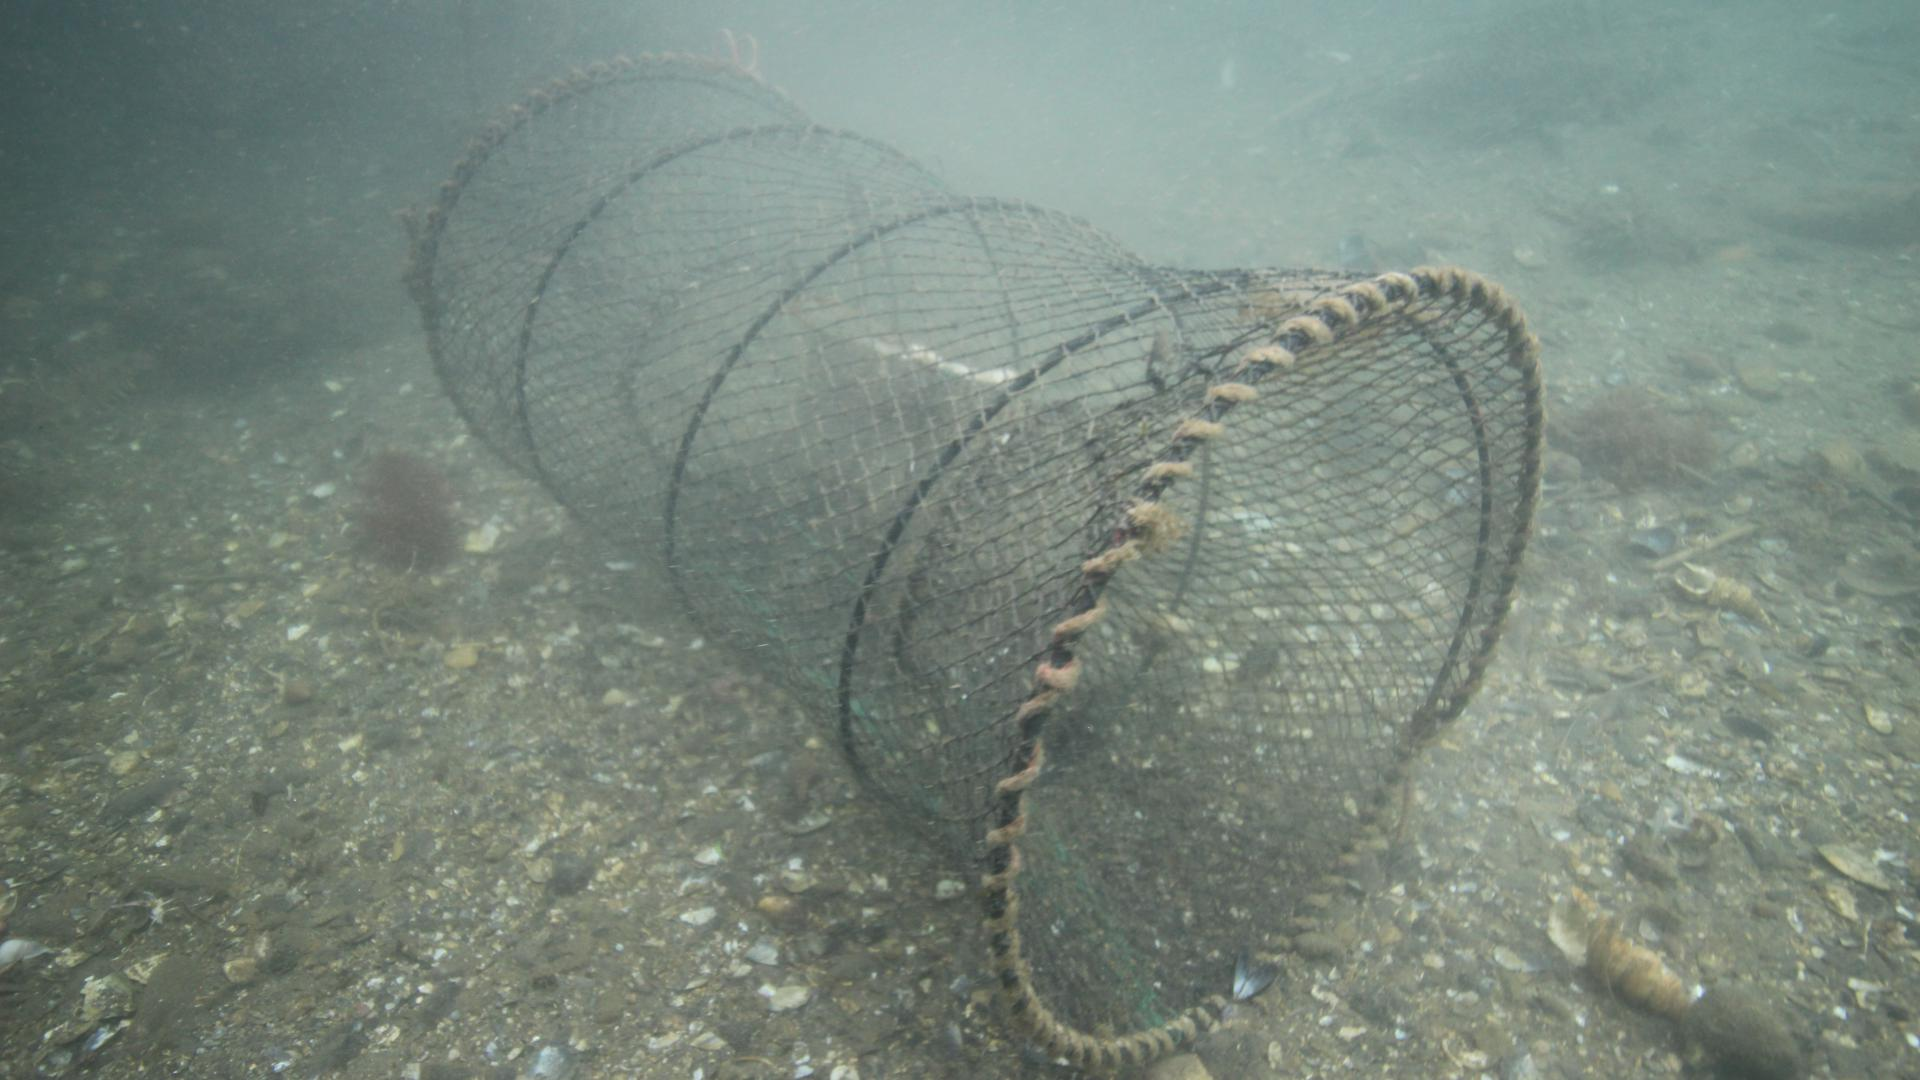spring fish trap: (413, 50, 1545, 1069)
